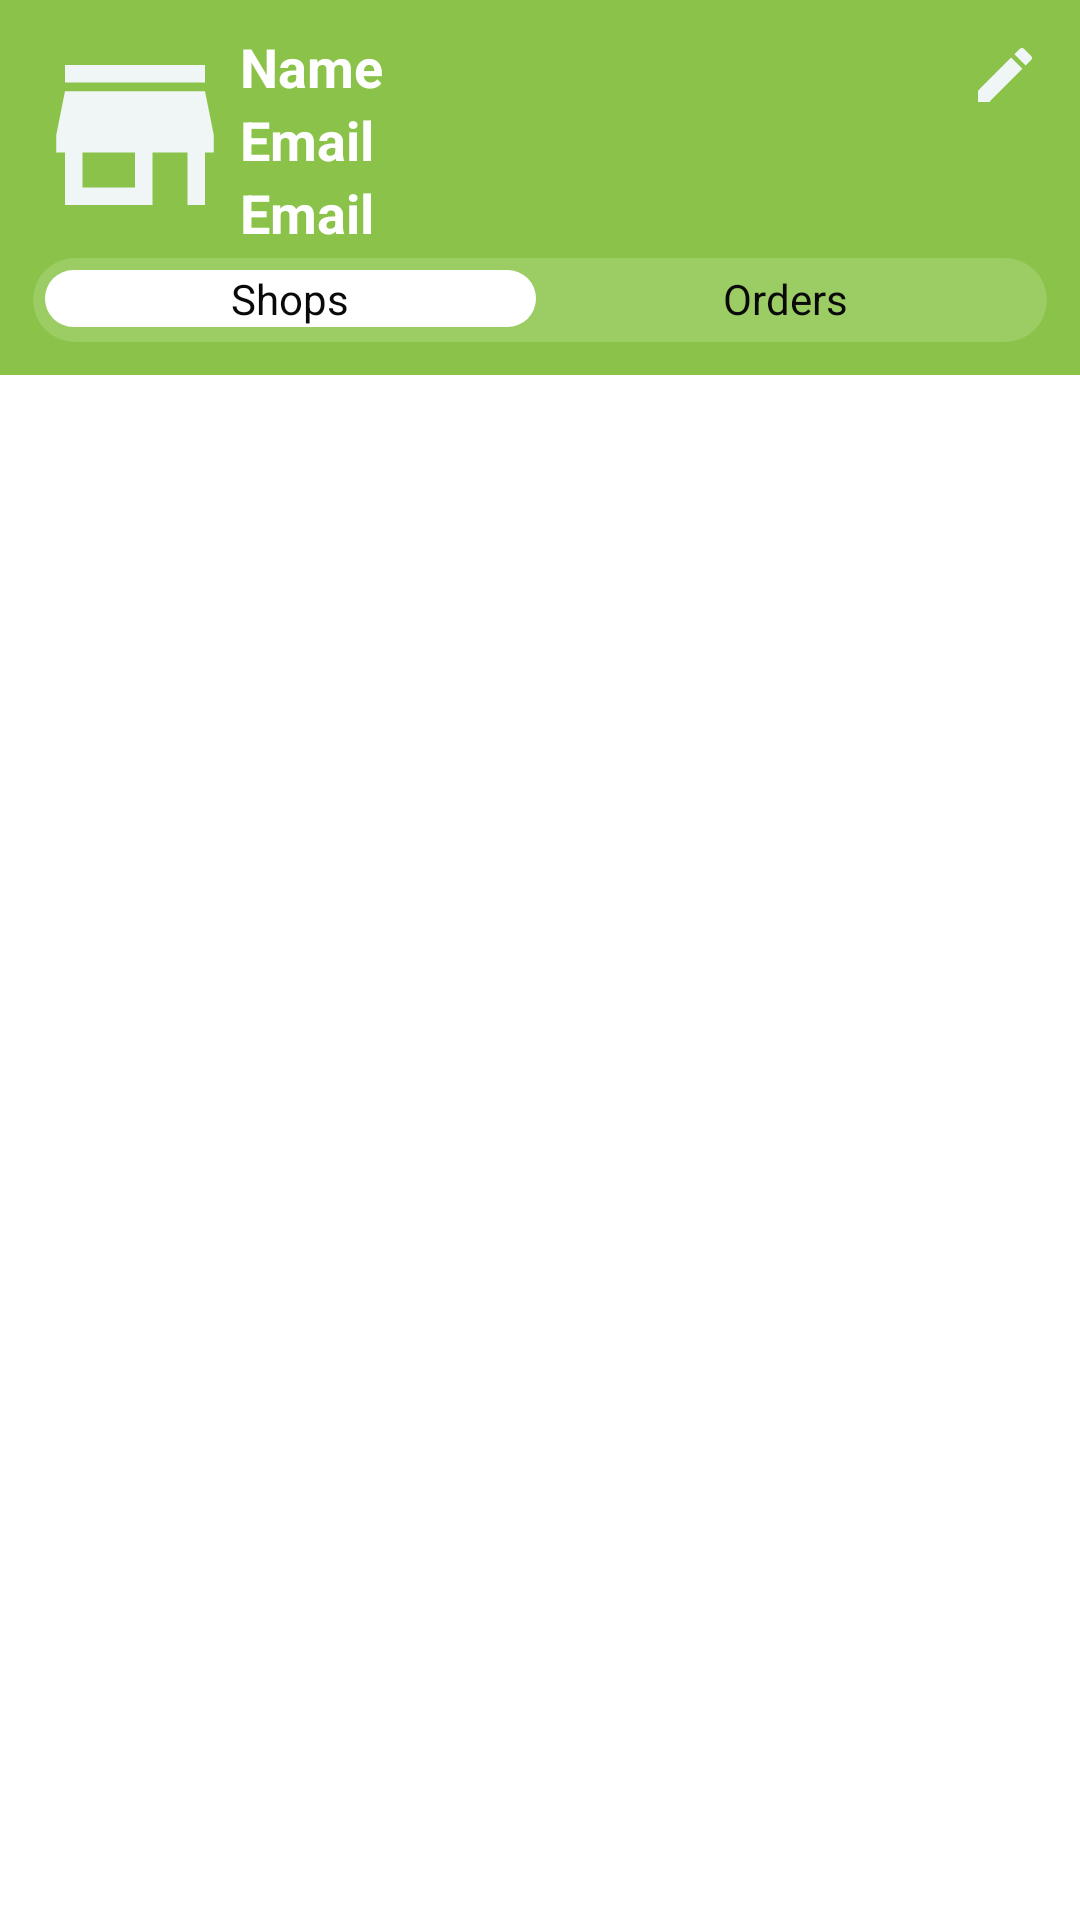

Screen size 1080w x 1920h. Icon name, then its box in pixels as [left=x1, top=y1, right=x2, bottom=y2]:
edit: [left=978, top=48, right=1032, bottom=102]
store: [left=56, top=65, right=214, bottom=205]
